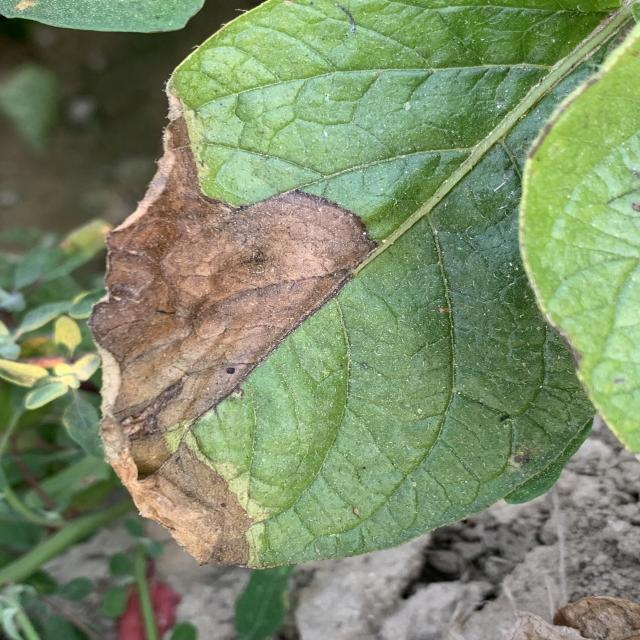lateblight: (90, 96, 375, 565)
